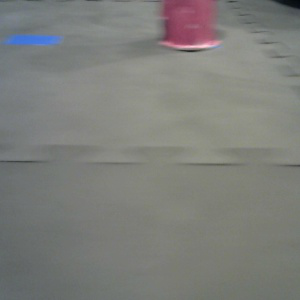Right: (156, 1, 220, 50)
